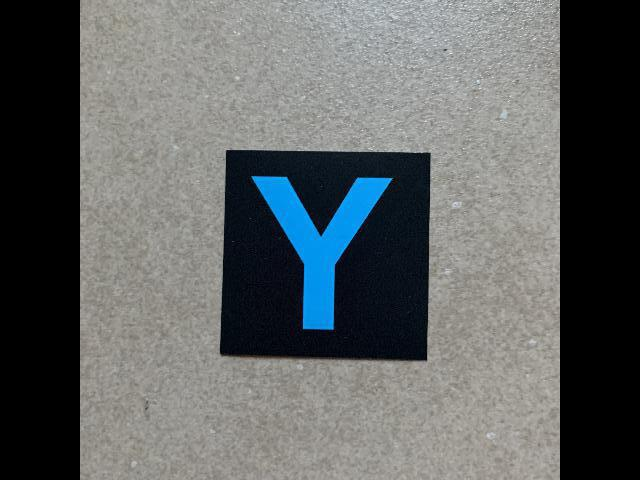y: (218, 148, 432, 364)
